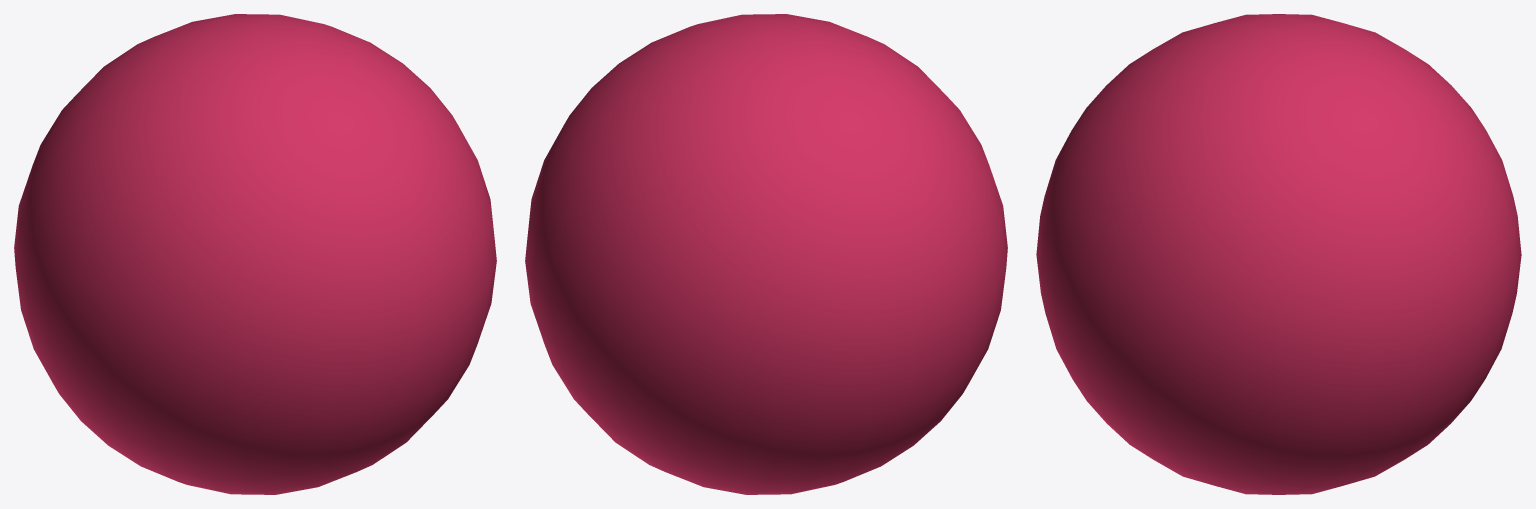
File: FrogSoul.fbx
3 renders of one model, left to right at view 1: azimuth 30°, elevation 25°; view 2: azimuth 150°, elevation 25°; view 3: azimuth 270°, elevation 25°, orthographic.
Visible parts, largest first — view 1: BOSS_SOUL_Frog; view 2: BOSS_SOUL_Frog; view 3: BOSS_SOUL_Frog.
Boxes of the visible parts, bbox=[...] form: BOSS_SOUL_Frog: bbox=[14, 14, 496, 494]; BOSS_SOUL_Frog: bbox=[525, 14, 1007, 494]; BOSS_SOUL_Frog: bbox=[1036, 14, 1521, 494].
Bounding box in the file's own units: 1.18 × 1.18 × 1.18.
